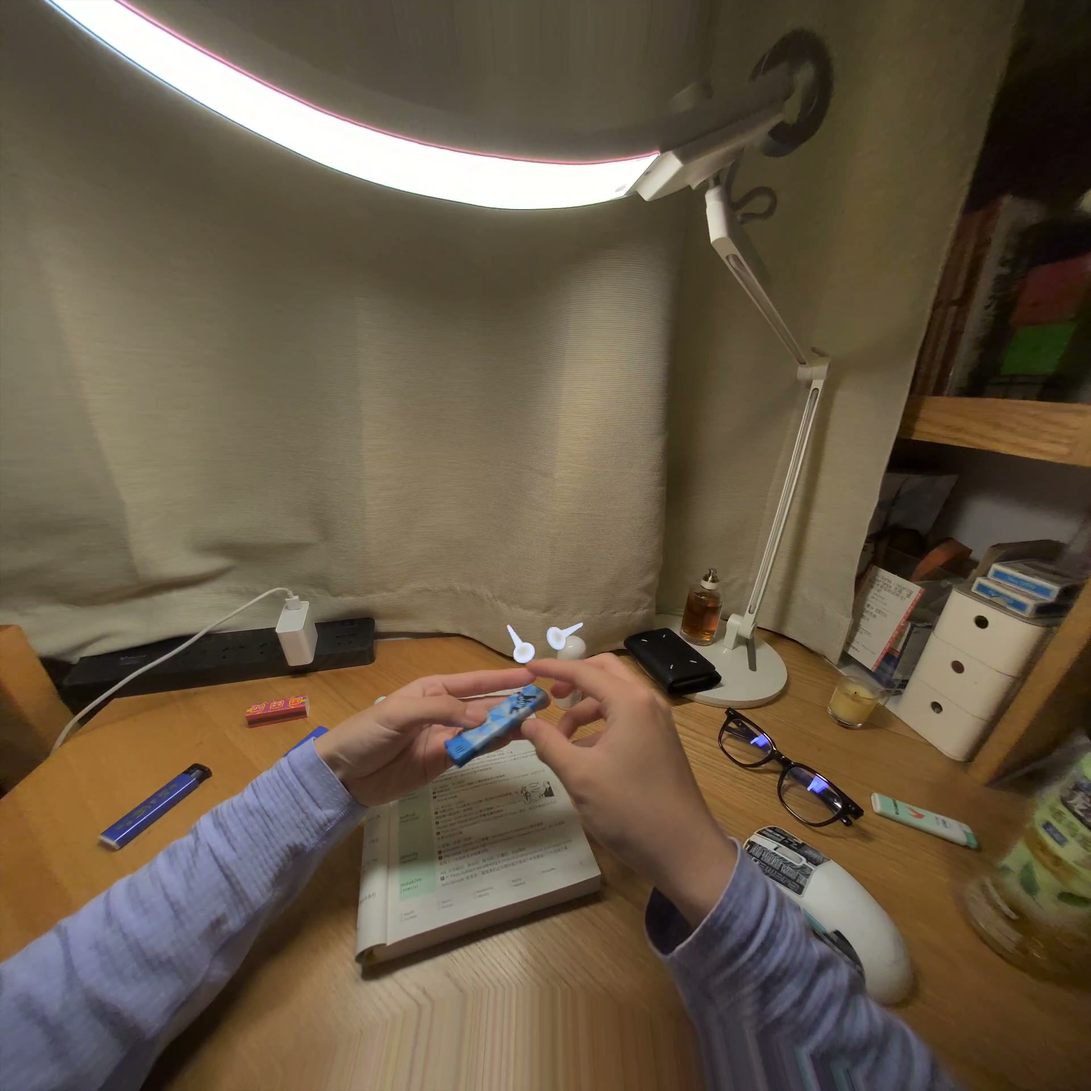lighter: (445, 685, 547, 767)
